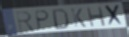D: (52, 8, 70, 31)
H: (86, 5, 107, 28)
K: (70, 8, 87, 28)
P: (35, 9, 51, 31)
R: (15, 10, 36, 33)
X: (104, 4, 126, 28)
